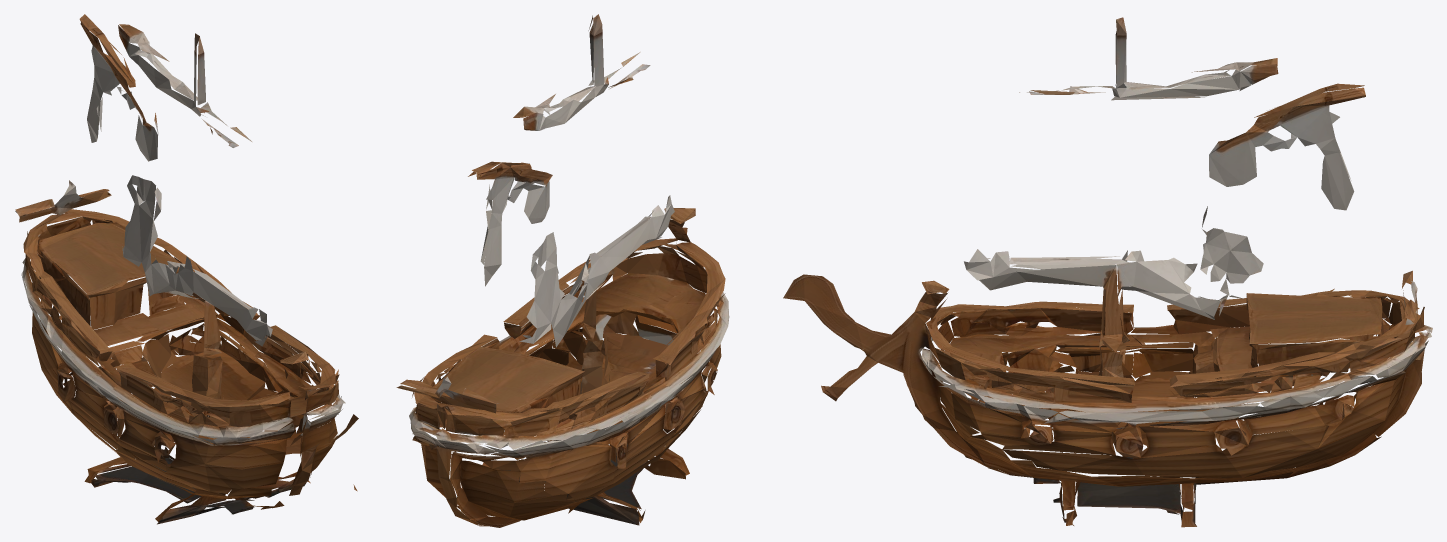
The model's file is airship.glb.
The picture shows the model from 3 angles, left to right: view 1: azimuth 30°, elevation 25°; view 2: azimuth 150°, elevation 25°; view 3: azimuth 270°, elevation 25°; orthographic projection. The views are drawn at different scales.
Visible parts, largest first — view 1: textured_mesh.obj.002; view 2: textured_mesh.obj.002; view 3: textured_mesh.obj.002.
Boxes of the visible parts, left/top/right/bottom form: textured_mesh.obj.002: left=15, top=14, right=358, bottom=524; textured_mesh.obj.002: left=396, top=14, right=729, bottom=527; textured_mesh.obj.002: left=783, top=17, right=1432, bottom=527.
Size of the model in its own units: 0.6048 by 1.46 by 1.81.
1 material, 1 textured.
